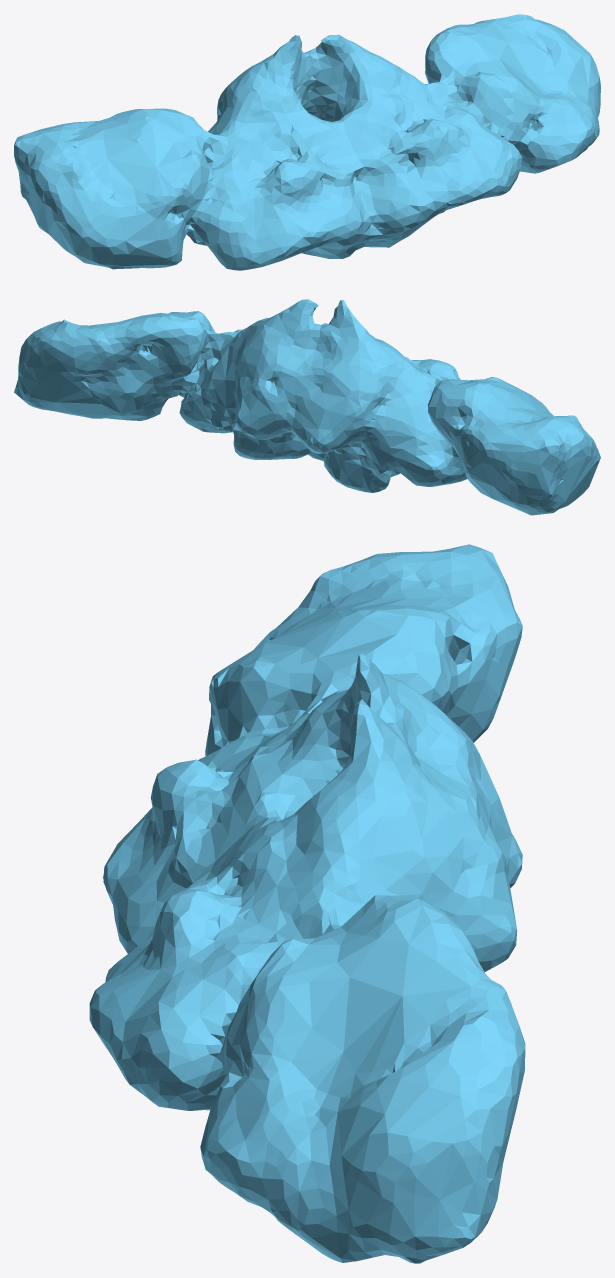
File: b7c7e51c-2912-4f77-bbdf-a440cfbb3527.glb
The picture shows the model from 3 angles, top to bottom: view 1: azimuth 30°, elevation 25°; view 2: azimuth 150°, elevation 25°; view 3: azimuth 270°, elevation 25°; orthographic projection. The views are drawn at different scales.
Parts seen in each view (by area): view 1: geometry_0; view 2: geometry_0; view 3: geometry_0.
Part boxes in pixels (box(x1,y1,x2,y2)): geometry_0: box(14, 14, 600, 270); geometry_0: box(14, 299, 600, 515); geometry_0: box(89, 544, 525, 1263).
Size of the model in its own units: 0.000777 by 0.000261 by 0.000267.
